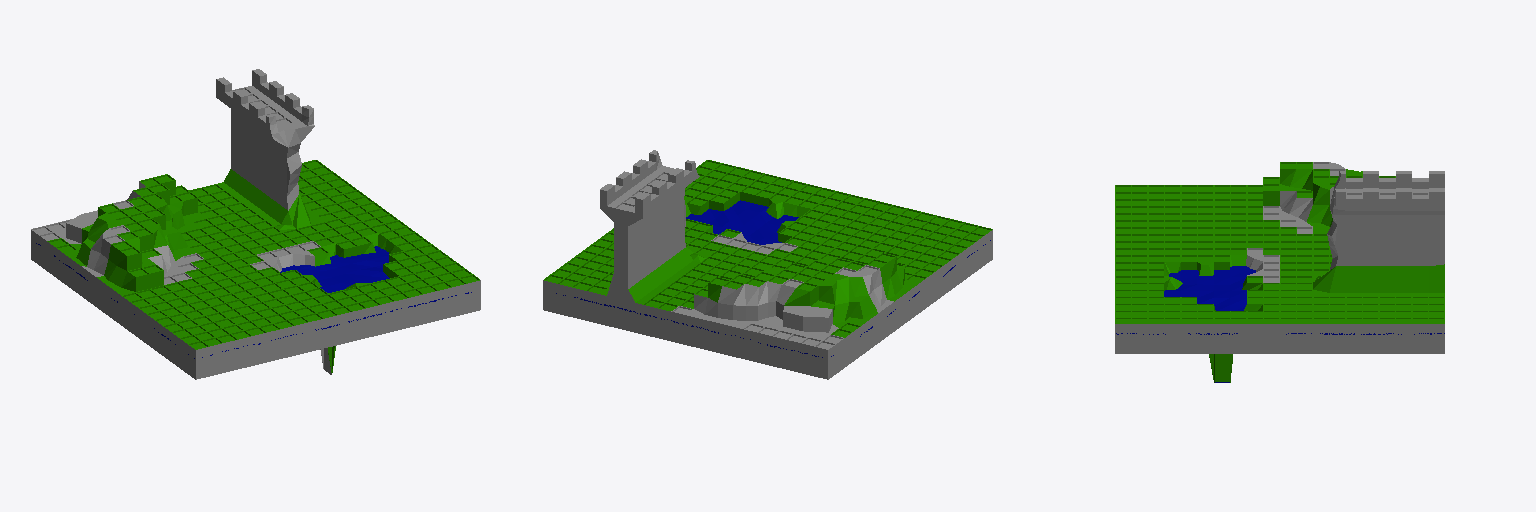
3 renders of one model, left to right at view 1: azimuth 30°, elevation 25°; view 2: azimuth 150°, elevation 25°; view 3: azimuth 270°, elevation 25°, orthographic.
Visible parts, largest first — view 1: tiled; view 2: tiled; view 3: tiled.
Part boxes in pixels (x1,y1,x2,y2): tiled: (31, 69, 480, 379); tiled: (543, 150, 992, 379); tiled: (1115, 162, 1444, 382).
Size of the model in its own units: 200 by 142 by 200.